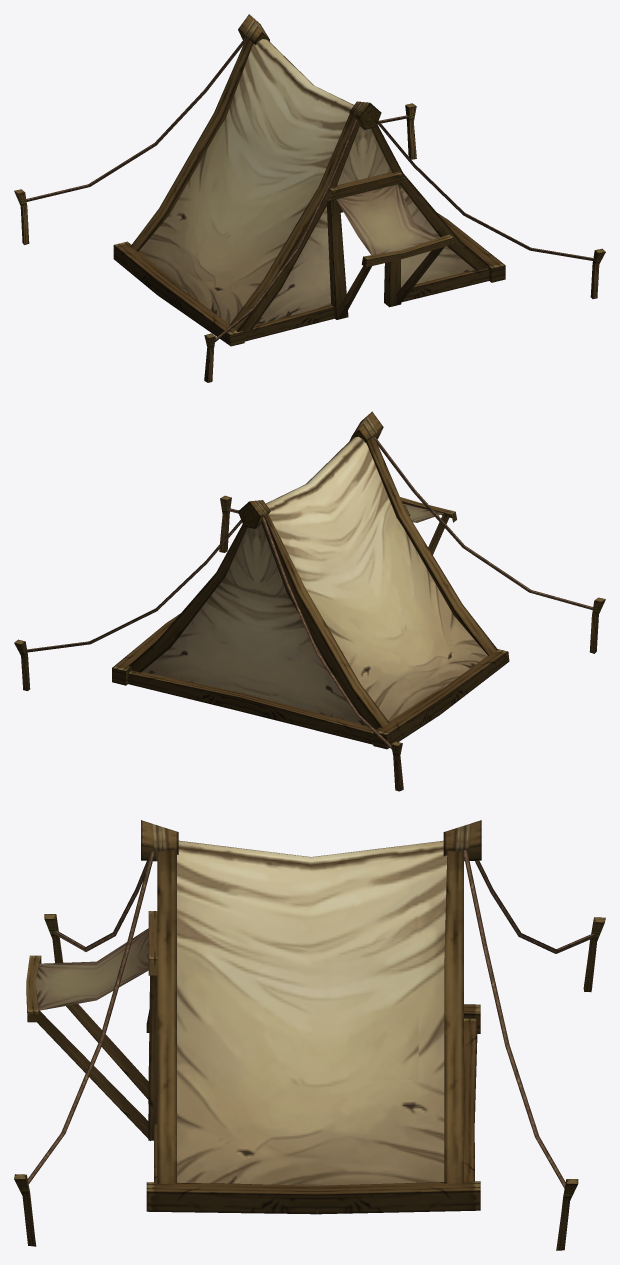
File: 2_YiZhan_ZaWu_ZhangPeng_03.FBX
3 views of the same model, one above another, from view 1: azimuth 30°, elevation 25°; view 2: azimuth 150°, elevation 25°; view 3: azimuth 270°, elevation 25° (orthographic). The views are drawn at different scales.
Parts seen in each view (by area): view 1: 2_YiZhan_ZaWu_ZhangPeng_02; view 2: 2_YiZhan_ZaWu_ZhangPeng_02; view 3: 2_YiZhan_ZaWu_ZhangPeng_02.
Boxes of the visible parts, x1,y1,x2,y2 form: 2_YiZhan_ZaWu_ZhangPeng_02: (14,14,605,382); 2_YiZhan_ZaWu_ZhangPeng_02: (14,411,605,791); 2_YiZhan_ZaWu_ZhangPeng_02: (14,820,605,1250).
Bounding box in the file's own units: 1275 × 657 × 1181.
